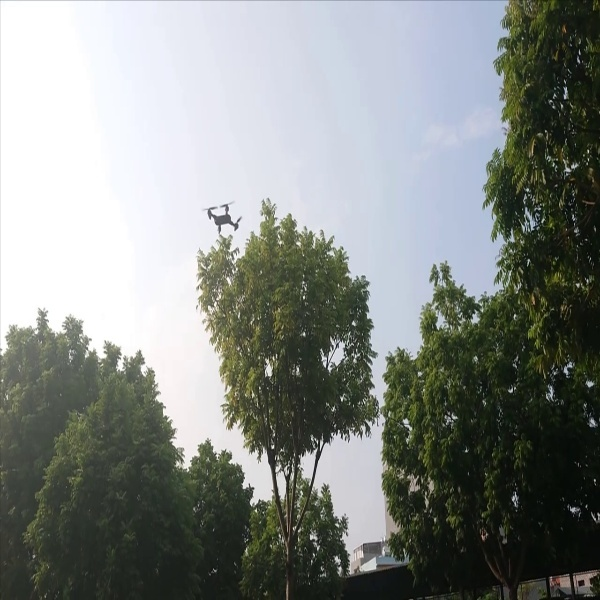drone: (202, 197, 245, 240)
